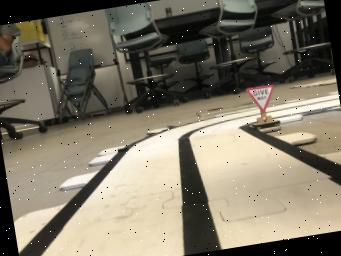give_way: (245, 84, 280, 130), (245, 84, 280, 130), (245, 84, 280, 130), (245, 84, 280, 130), (245, 84, 280, 130), (245, 84, 280, 130)
street: (18, 109, 341, 256), (18, 109, 341, 256), (18, 109, 341, 256), (18, 109, 341, 256), (18, 109, 341, 256), (18, 109, 341, 256)
